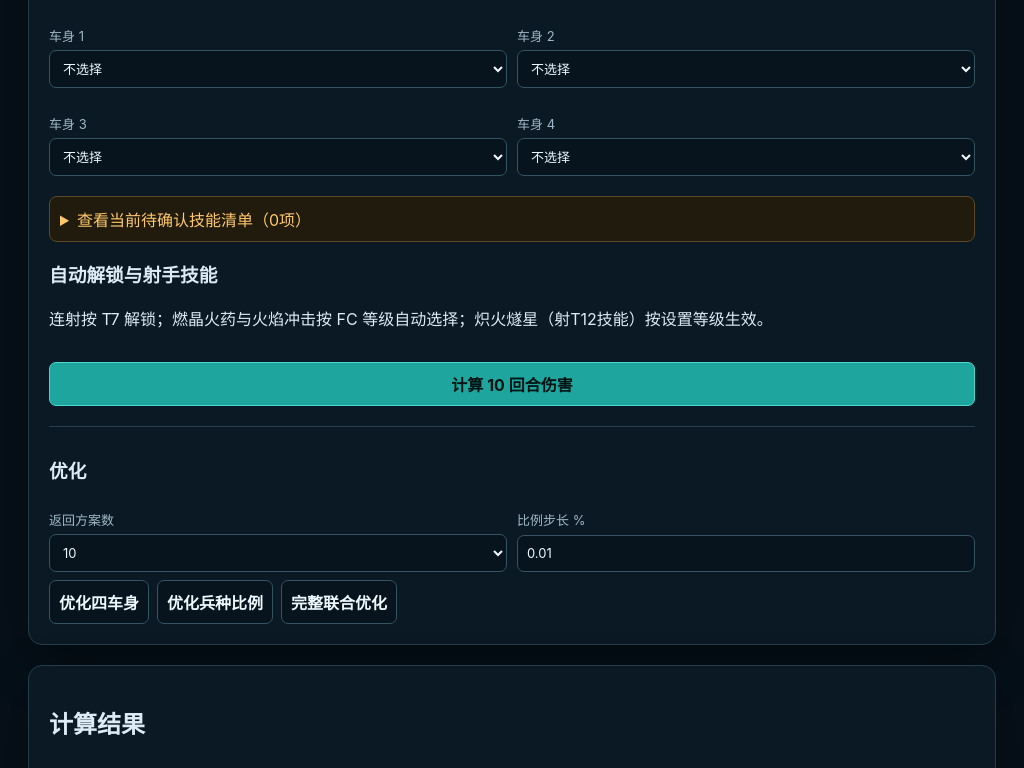
Scenario: 计算器UI有限选项与技能说明 › 逐回合结果只展示普通、额外伤害与最终伤害
(page scrolled)
Click the button "计算 10 回合伤害".
click(512, 384)  # box [49, 362, 975, 406]
(page scrolled)
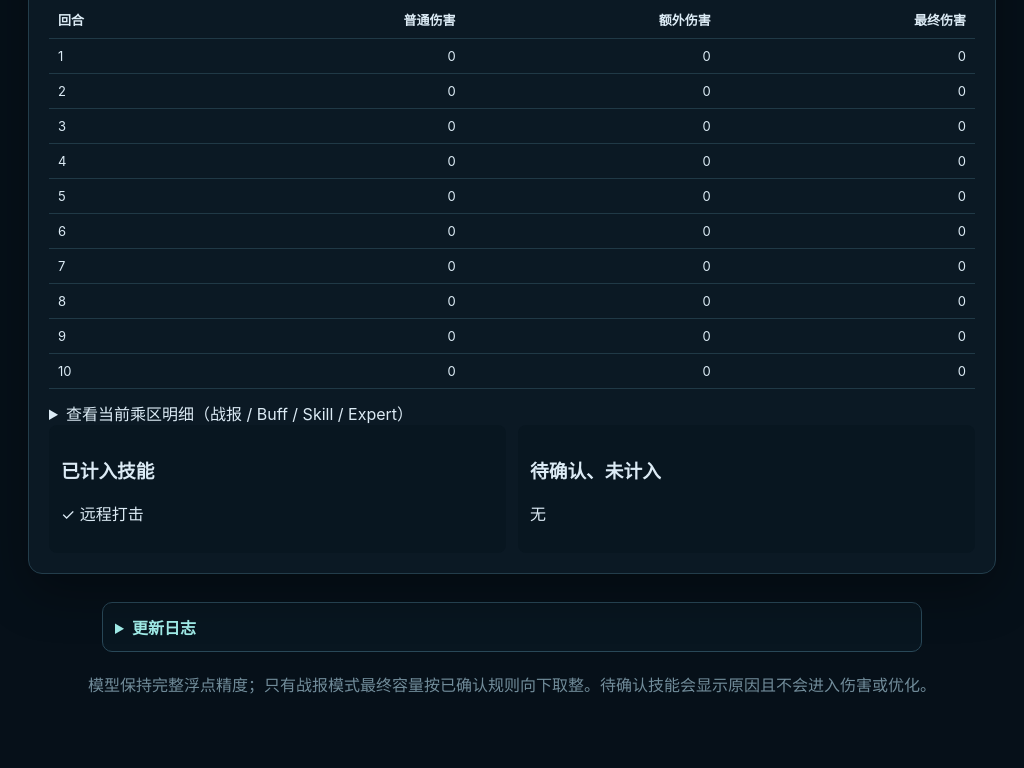
Now the heading "查看当前乘区明细（战报 / Buff / Skill / Expert）" is shown, box [66, 404, 413, 424]
